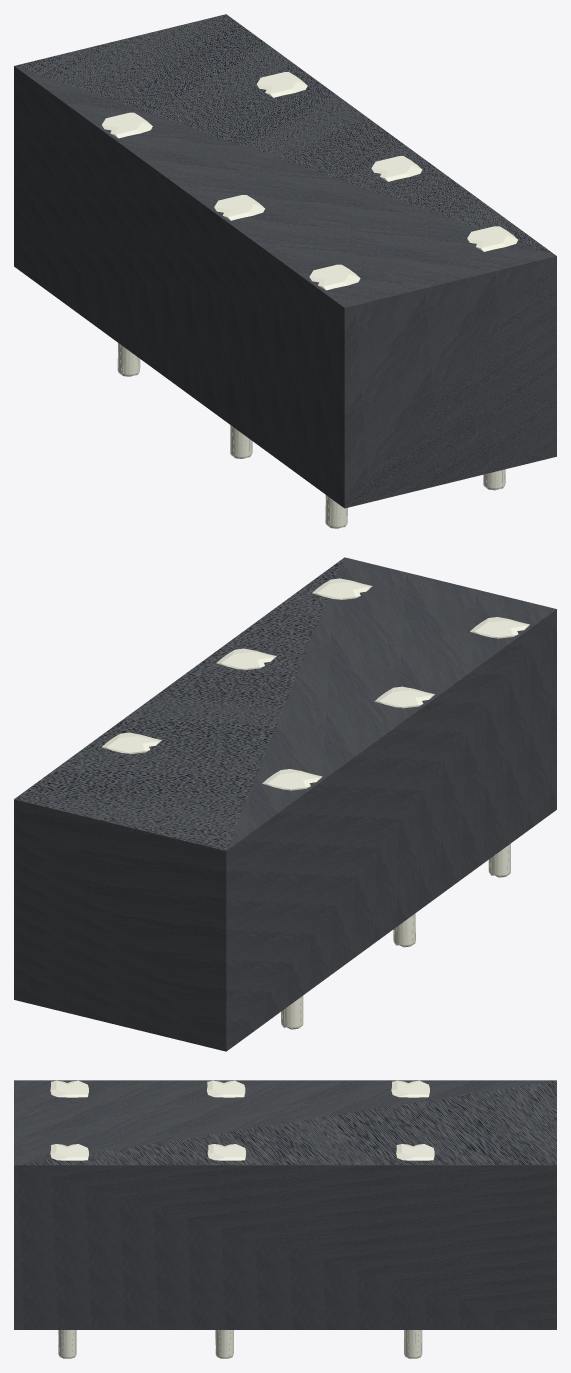
Rendered from Escenario.fbx.
3 renders of one model, top to bottom at view 1: azimuth 30°, elevation 25°; view 2: azimuth 150°, elevation 25°; view 3: azimuth 270°, elevation 25°, orthographic. The views are drawn at different scales.
Parts seen in each view (by area): view 1: Trono; view 2: Trono; view 3: Trono.
Boxes of the visible parts, box(x1,y1,x2,y2) form: Trono: box(14, 14, 556, 528); Trono: box(14, 557, 556, 1051); Trono: box(14, 1080, 556, 1358).
Size of the model in its own units: 10045 by 11211 by 27088.
6 materials, 1 textured.
